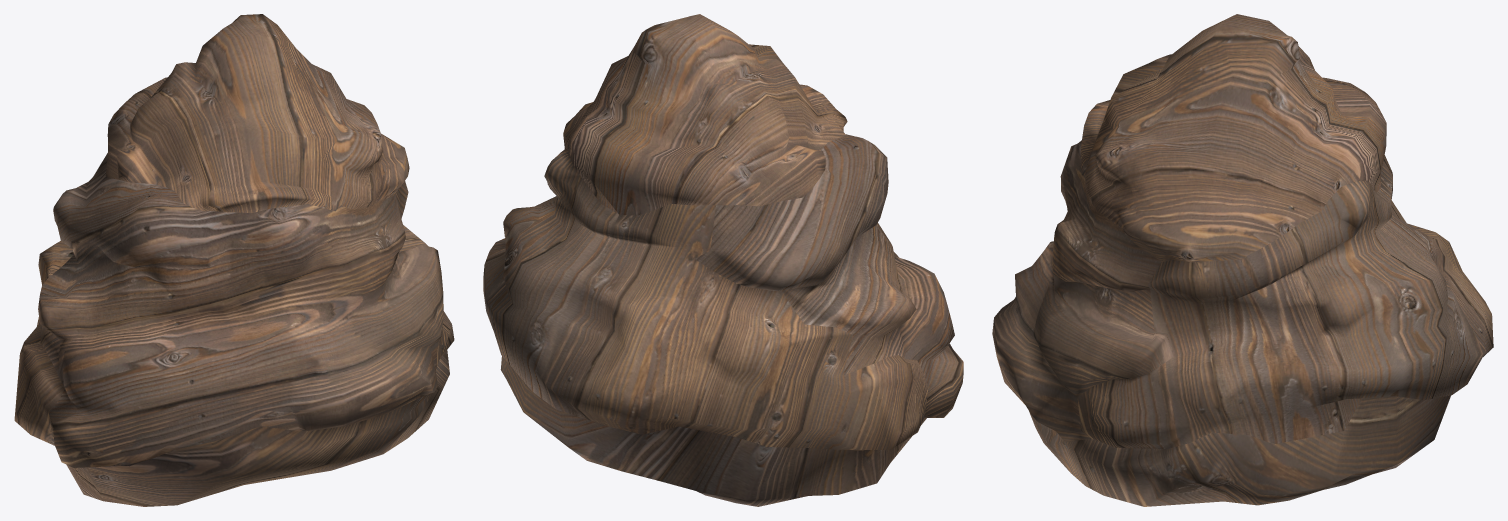
The model's file is SM_foldRock.fbx.
The picture shows the model from 3 angles, left to right: view 1: azimuth 30°, elevation 25°; view 2: azimuth 150°, elevation 25°; view 3: azimuth 270°, elevation 25°; orthographic projection. The views are drawn at different scales.
Parts seen in each view (by area): view 1: polySurface1; view 2: polySurface1; view 3: polySurface1.
Part boxes in pixels (bbox=[...]): polySurface1: bbox=[14, 14, 454, 506]; polySurface1: bbox=[483, 14, 963, 506]; polySurface1: bbox=[992, 14, 1493, 506].
Bounding box in the file's own units: 1716 × 1768 × 1704.
1 material, 1 textured.
